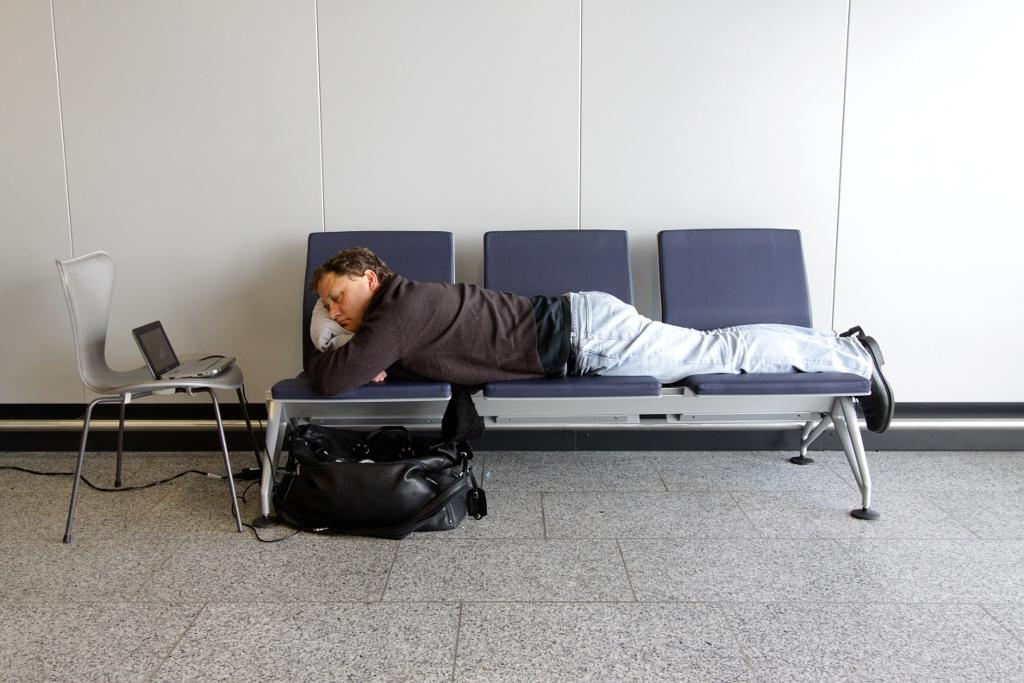Luggage-and-bags: (250, 386, 475, 545), (311, 298, 355, 350)
